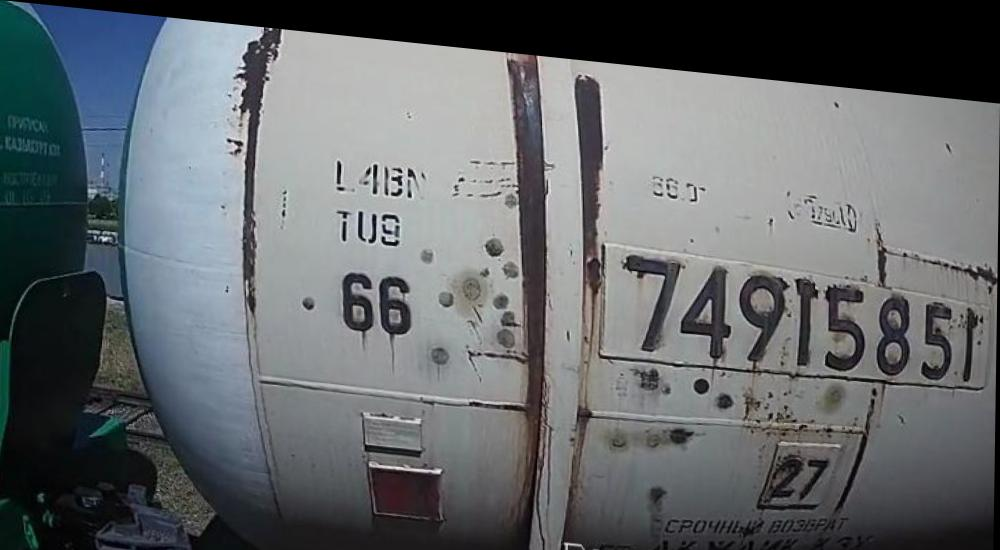Wagon-number: (618, 233, 981, 370)
